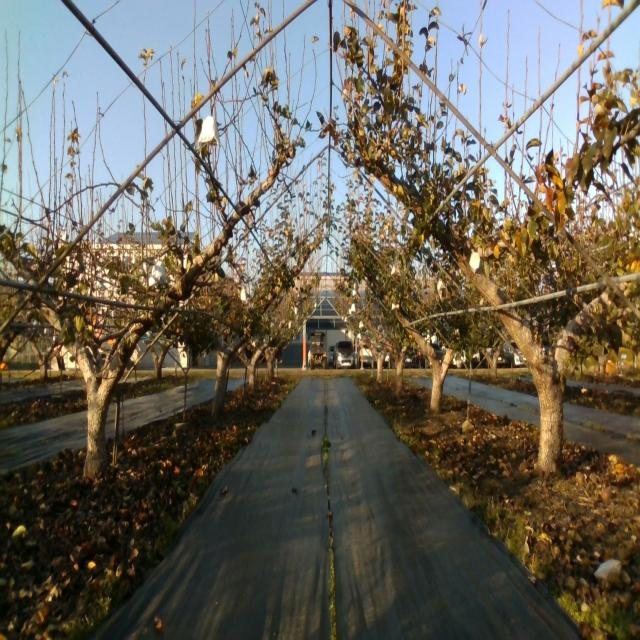pearbags: (149, 260, 166, 288), (198, 116, 215, 143), (468, 248, 482, 274)
